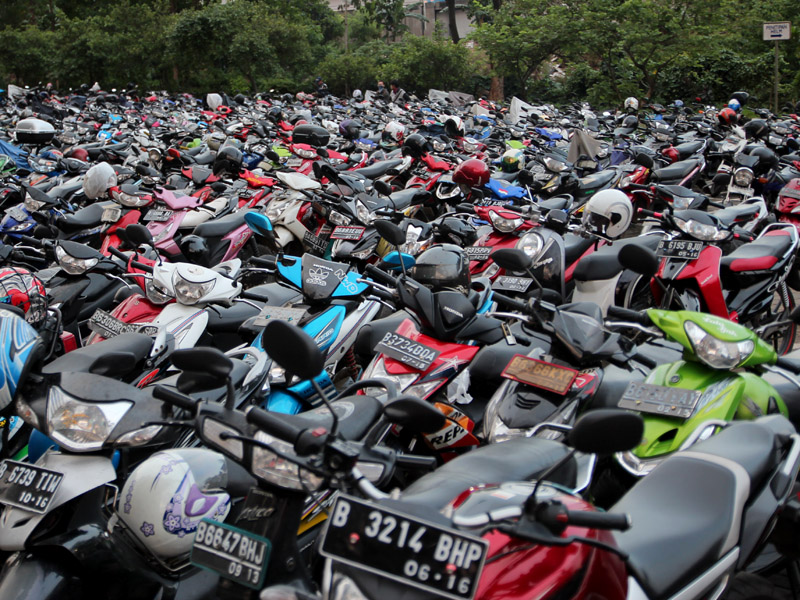plate: (328, 494, 487, 600), (187, 520, 263, 578), (617, 377, 700, 417), (502, 356, 582, 396), (1, 466, 66, 513), (381, 327, 434, 371)
